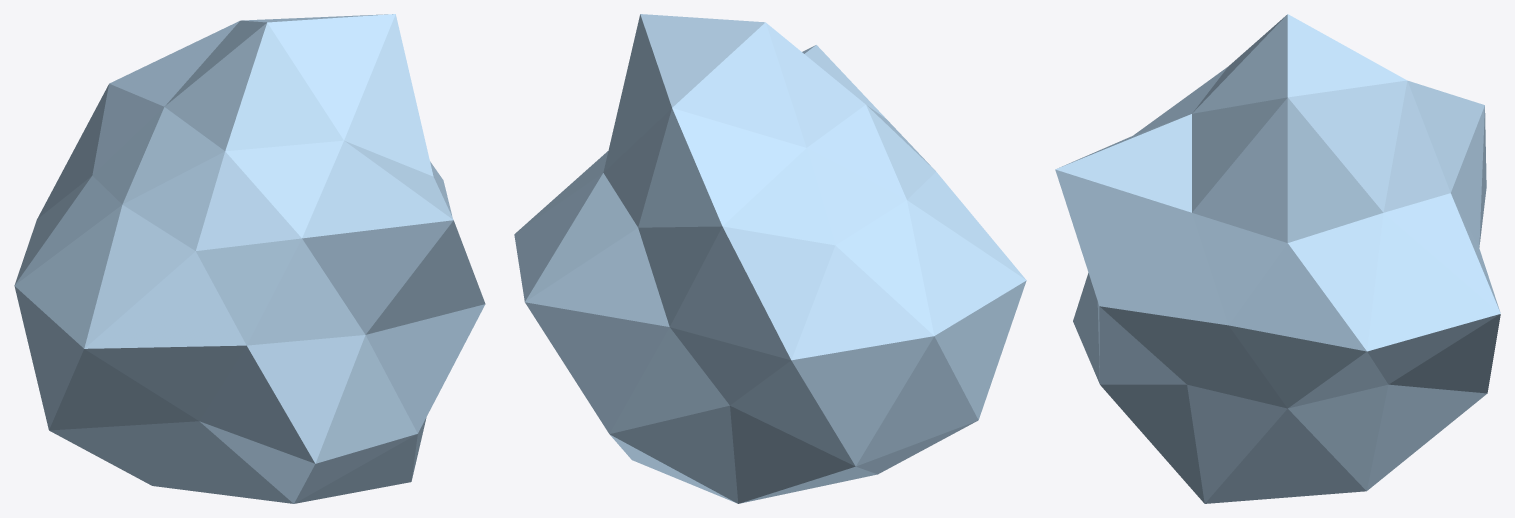
Rendered from ball_crystal.glb.
3 views of the same model, side by side, from view 1: azimuth 30°, elevation 25°; view 2: azimuth 150°, elevation 25°; view 3: azimuth 270°, elevation 25° (orthographic). The views are drawn at different scales.
Visible parts, largest first — view 1: ball_crystal; view 2: ball_crystal; view 3: ball_crystal.
Part boxes in pixels (x1=…): ball_crystal: x1=14, y1=14, x2=485, y2=503; ball_crystal: x1=514, y1=14, x2=1026, y2=503; ball_crystal: x1=1055, y1=14, x2=1500, y2=503.
Bounding box in the file's own units: 0.6233 × 0.6104 × 0.5582.
